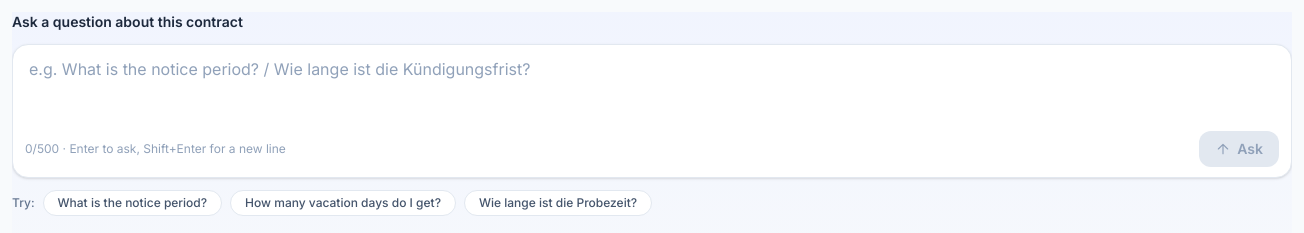
Test: QuestionForm › asks a suggested question in one click
Click the button "Wie lange ist die Probezeit?": (558, 203) x1=464 y1=190 x2=652 y2=216
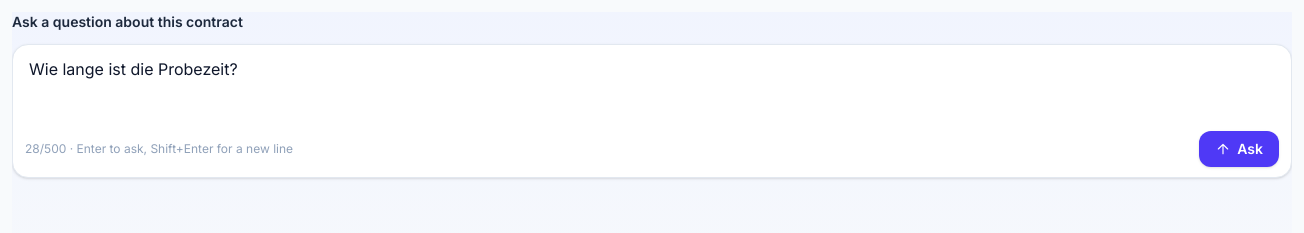
Now the text box with test id "question-input" holds "Wie lange ist die Probezeit?", box x1=13 y1=45 x2=1291 y2=177
Now the button "What is the notice period?" is gone
